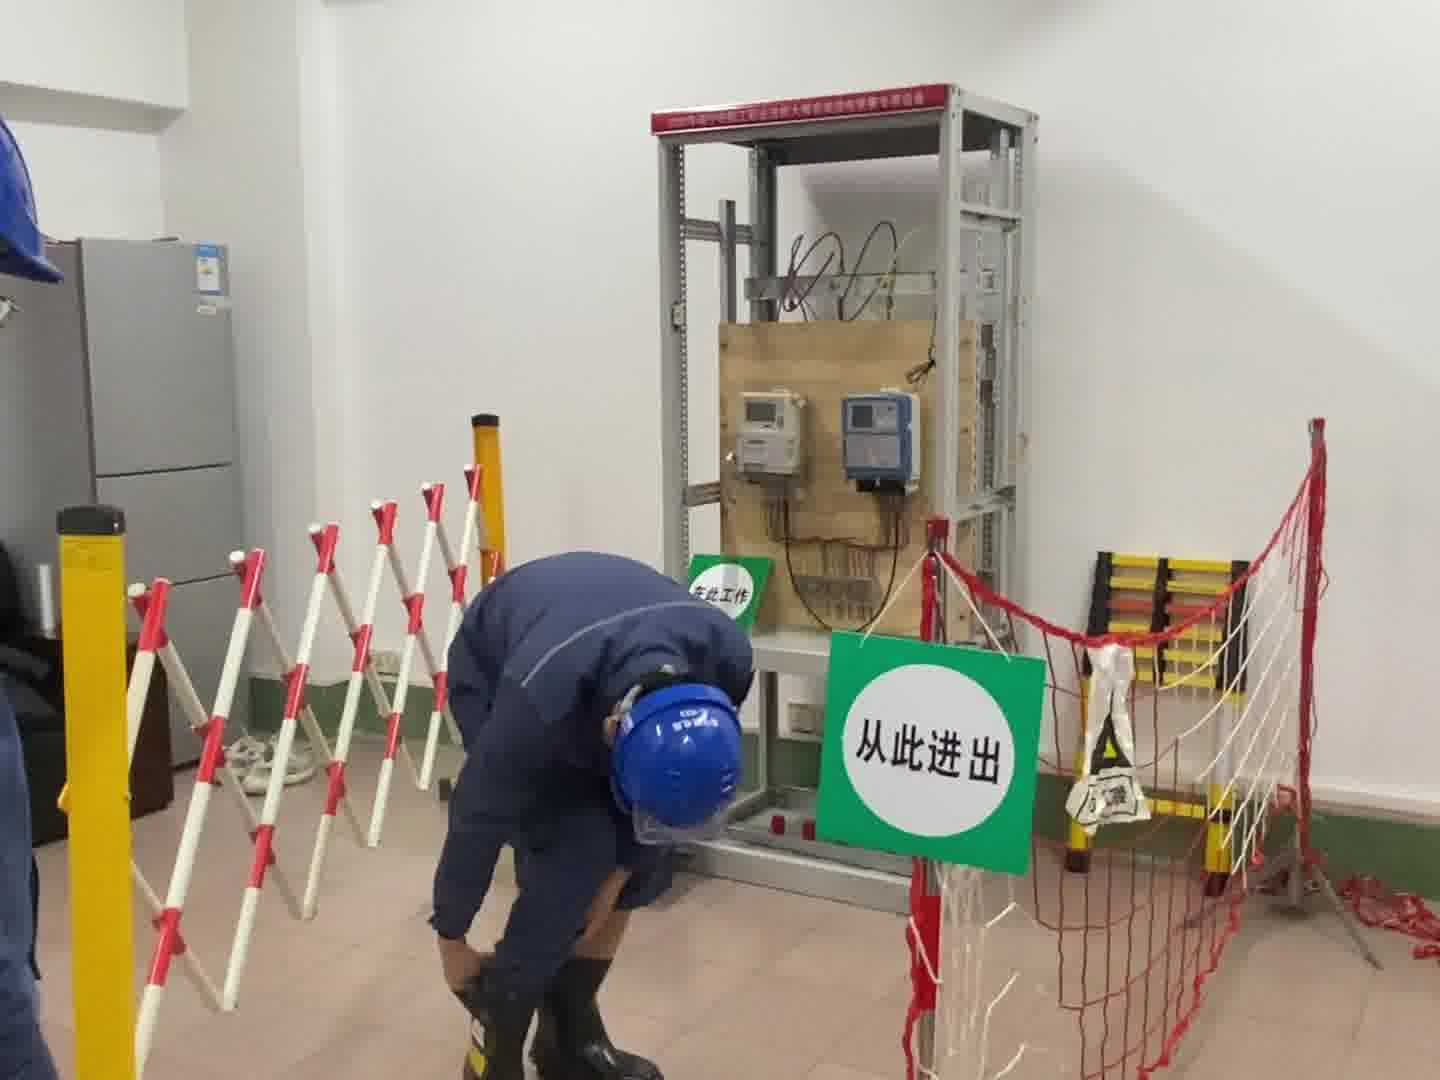downsuit: (490, 811, 649, 1000)
halt: (608, 687, 746, 839)
hand: (435, 936, 488, 1004)
intosign: (806, 626, 1050, 878)
person: (424, 533, 759, 1079)
shoe: (529, 971, 664, 1079), (453, 983, 534, 1080)
upsuit: (440, 552, 758, 773)
worksign: (680, 546, 776, 632)
